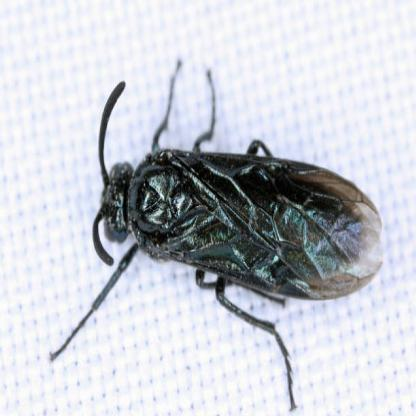sawfly: (44, 51, 382, 411)
